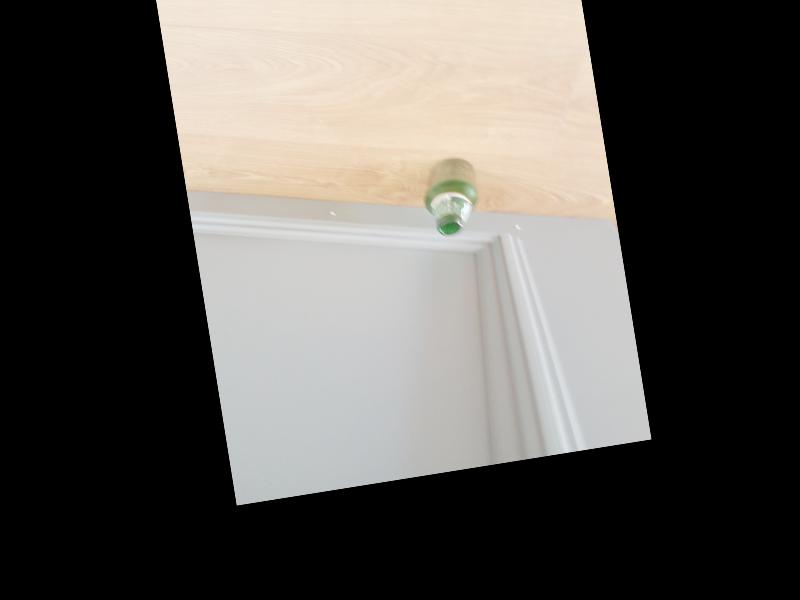Beer: (419, 155, 482, 238)
